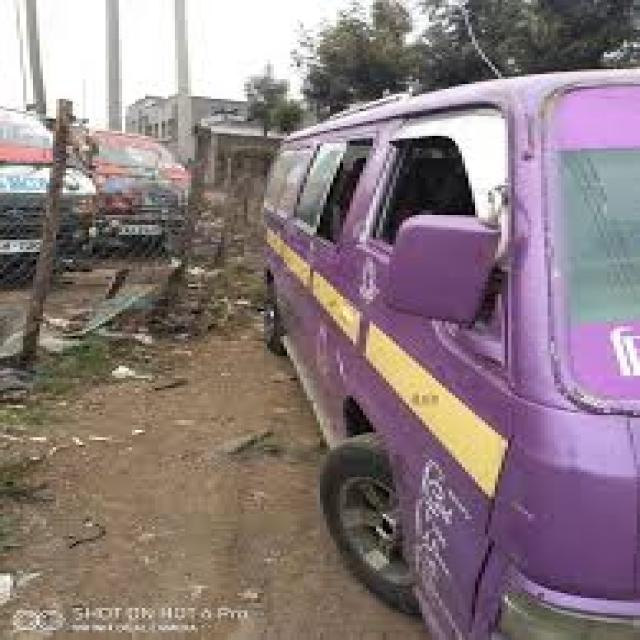matatu: (211, 61, 640, 640)
